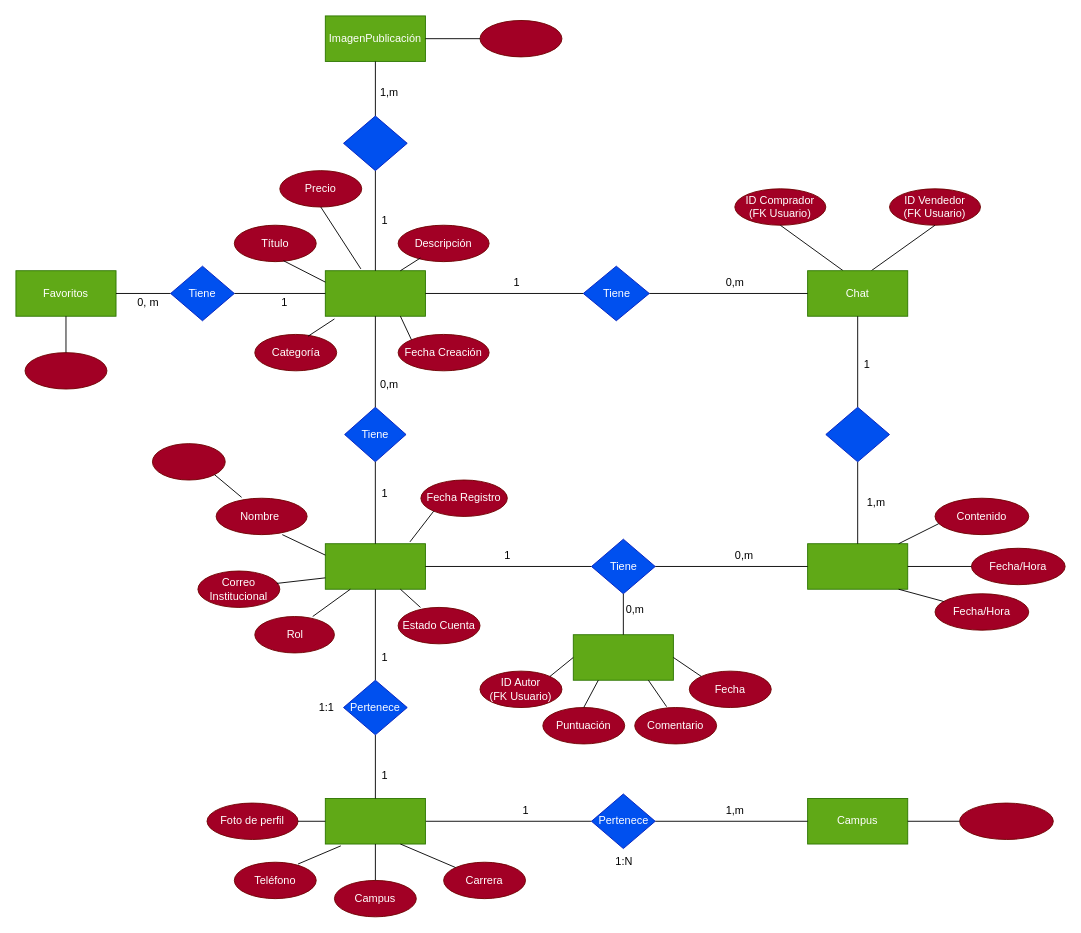
Image size: 1081x933. Some labels were removed from this diagram. Each missing label, with the centre of its shape:
"Apellidos" goes at point (188, 461).
"Contiene" goes at point (857, 434).
"ID Usuario" goes at point (65, 370).
"Mensajes" goes at point (857, 566).
"Nombre Campus" goes at point (1006, 820).
"PerfilUsuario" goes at point (374, 821).
"Posee" goes at point (375, 143).
"Publicación" goes at point (374, 293).
"Reseñas" goes at point (622, 657).
"URL/Ruta Imagen" goes at point (520, 38).
"Usuario" goes at point (374, 566).
